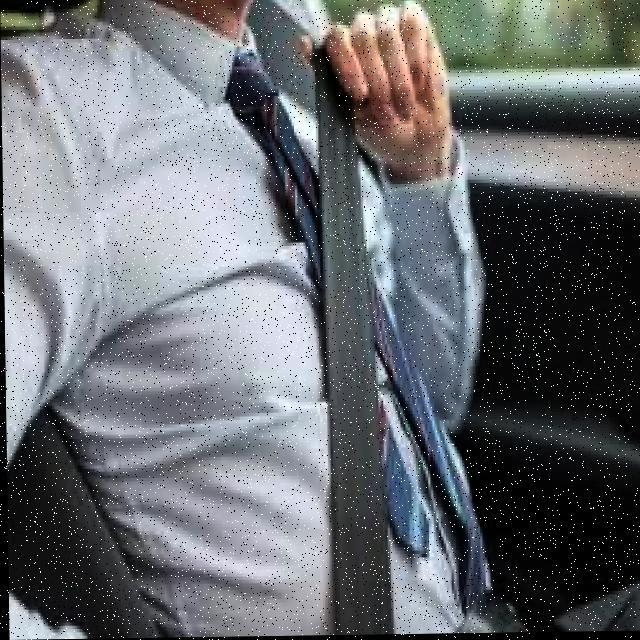seatbelt: (186, 14, 506, 638)
